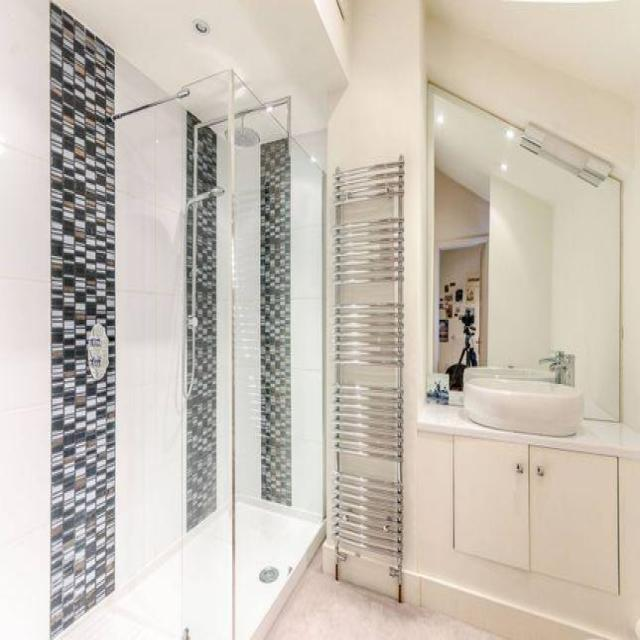Wall: (425, 17, 640, 430), (50, 6, 186, 635), (316, 0, 428, 569), (432, 92, 620, 419), (59, 0, 348, 134), (237, 137, 324, 518), (0, 0, 50, 638), (426, 0, 640, 97), (268, 553, 500, 639), (186, 195, 227, 530), (434, 169, 489, 245), (180, 71, 231, 122), (198, 127, 227, 194), (295, 129, 327, 170), (186, 113, 198, 200), (235, 75, 260, 112), (185, 206, 192, 316)
